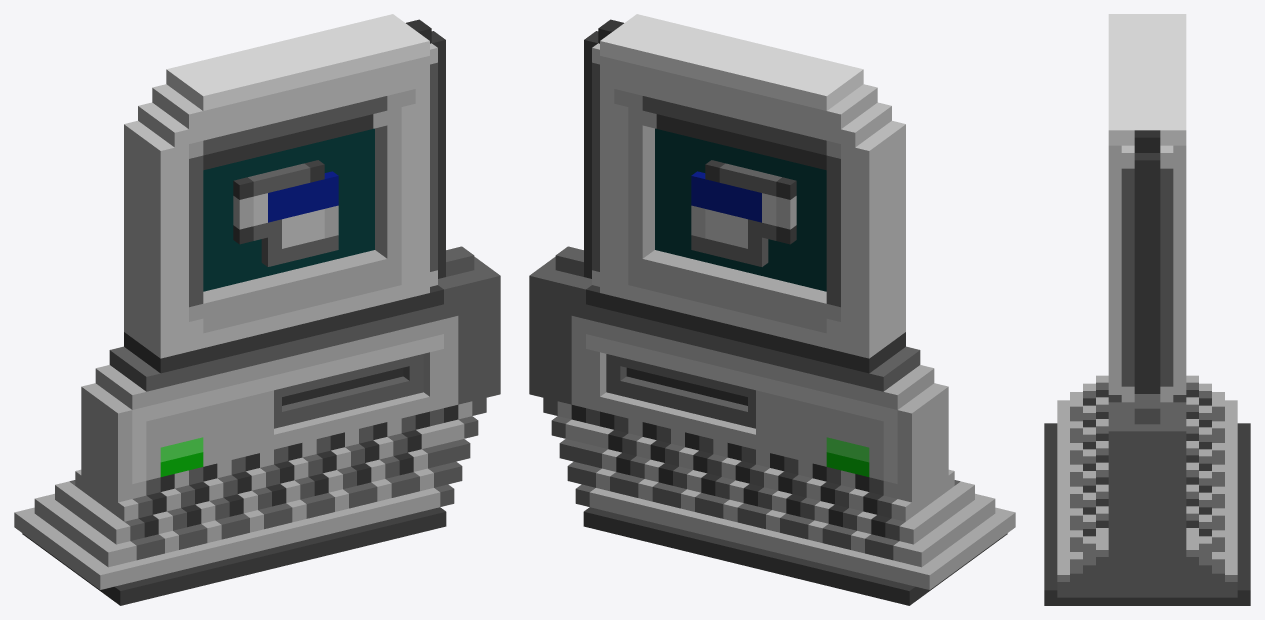
The model's file is machine_learning.glb.
3 renders of one model, left to right at view 1: azimuth 30°, elevation 25°; view 2: azimuth 150°, elevation 25°; view 3: azimuth 270°, elevation 25°, orthographic. The views are drawn at different scales.
Parts seen in each view (by area): view 1: icon.022; view 2: icon.022; view 3: icon.022.
Part boxes in pixels (x1,y1,x2,y2): icon.022: [14, 14, 500, 605]; icon.022: [529, 14, 1015, 605]; icon.022: [1044, 14, 1250, 605].
Bounding box in the file's own units: 30 × 31 × 12.
Materials: 1 (1 with a texture image).
